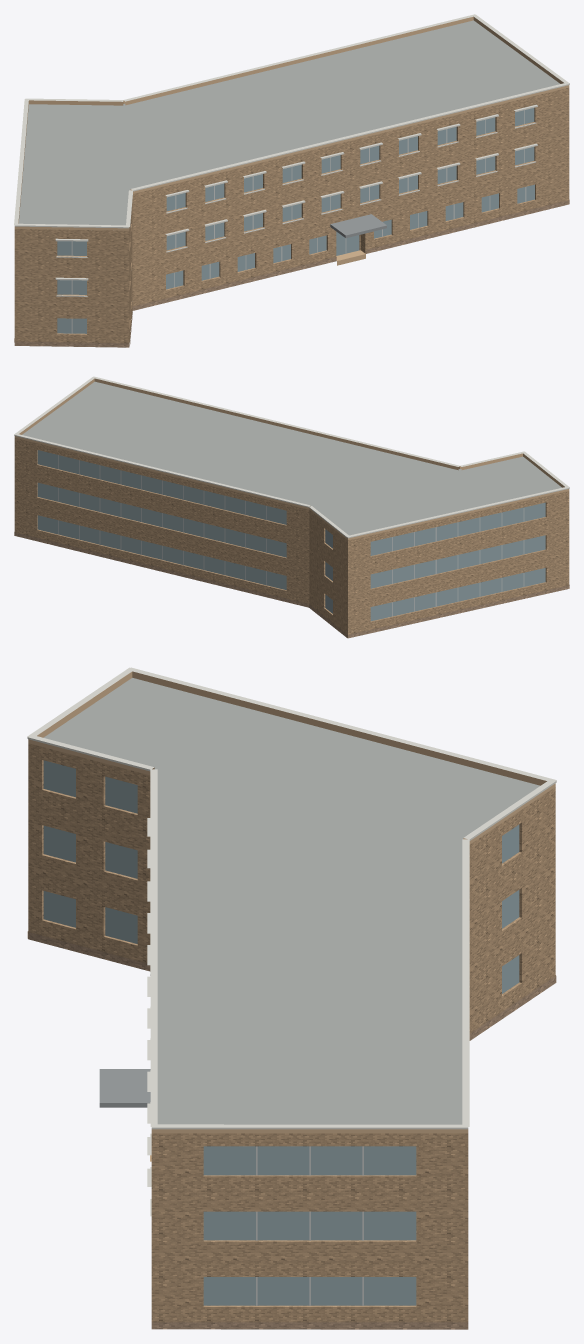
3 views of the same model, one above another, from view 1: azimuth 30°, elevation 25°; view 2: azimuth 150°, elevation 25°; view 3: azimuth 270°, elevation 25° (orthographic). The views are drawn at different scales.
Parts seen in each view (by area): view 1: b115951756__wall, b115951756__roof, b115951756__glass, b115951756__trim, b115951756__parapet, b115951756__base, b115951756__canopy, b115951756__frame; view 2: b115951756__wall, b115951756__roof, b115951756__glass, b115951756__parapet, b115951756__trim, b115951756__base, b115951756__frame; view 3: b115951756__roof, b115951756__wall, b115951756__glass, b115951756__trim, b115951756__parapet, b115951756__base, b115951756__canopy.
Boxes of the visible parts, bbox=[...] form: b115951756__wall: bbox=[14, 87, 569, 345]; b115951756__roof: bbox=[18, 20, 559, 346]; b115951756__glass: bbox=[57, 108, 534, 333]; b115951756__trim: bbox=[14, 14, 569, 296]; b115951756__parapet: bbox=[14, 16, 569, 230]; b115951756__base: bbox=[14, 200, 569, 347]; b115951756__canopy: bbox=[330, 214, 386, 238]; b115951756__frame: bbox=[71, 110, 526, 333]; b115951756__wall: bbox=[14, 438, 569, 637]; b115951756__roof: bbox=[22, 381, 561, 535]; b115951756__glass: bbox=[37, 450, 545, 621]; b115951756__parapet: bbox=[14, 378, 569, 540]; b115951756__trim: bbox=[14, 376, 569, 538]; b115951756__base: bbox=[14, 532, 569, 638]; b115951756__frame: bbox=[58, 455, 524, 616]; b115951756__roof: bbox=[43, 678, 540, 1329]; b115951756__wall: bbox=[28, 743, 555, 1322]; b115951756__glass: bbox=[43, 760, 519, 1305]; b115951756__trim: bbox=[27, 667, 556, 1216]; b115951756__parapet: bbox=[28, 671, 555, 1133]; b115951756__base: bbox=[27, 931, 556, 1329]; b115951756__canopy: bbox=[99, 1069, 150, 1107].
Bounding box in the file's own units: 54.44 × 11.55 × 26.47.
10 materials, 2 textured.
